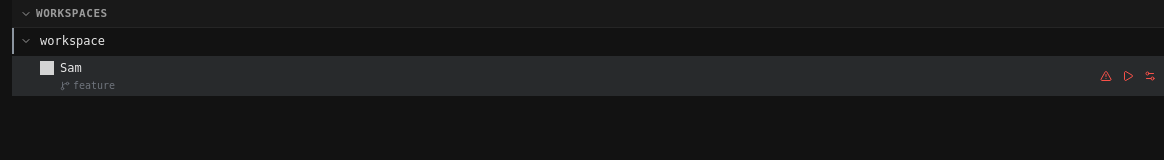
Test: checkout-aware sidebar service controls › shows startup/failure and start errors without consuming any layout pane
Click the button named "Run Dev Server".
click(1128, 76)  # box [1118,66,1138,86]
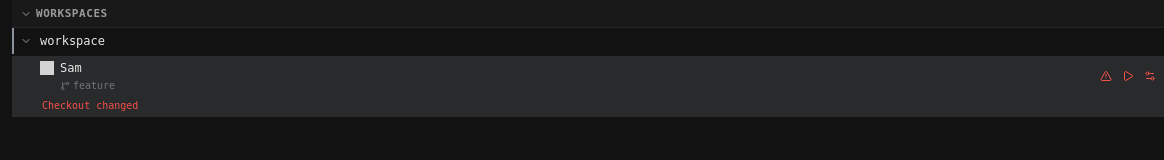
Now the message reads "Checkout changed", box [42,100,138,111]
